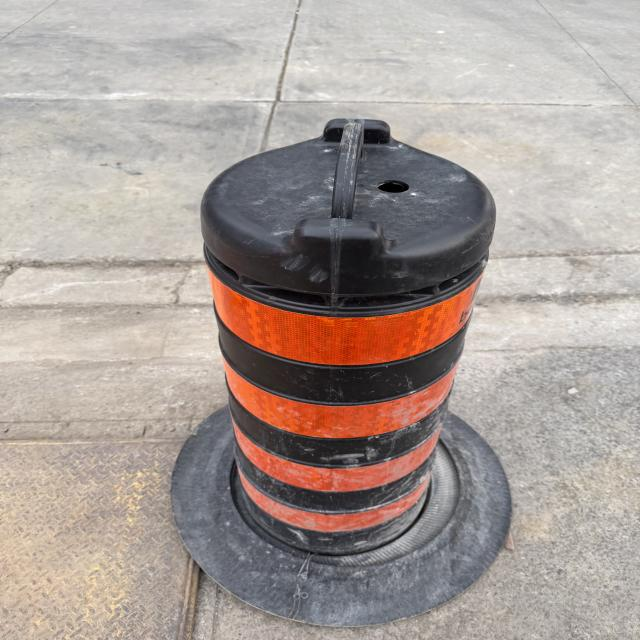Teraffic Barrel: (172, 120, 510, 626), (202, 120, 493, 554)
